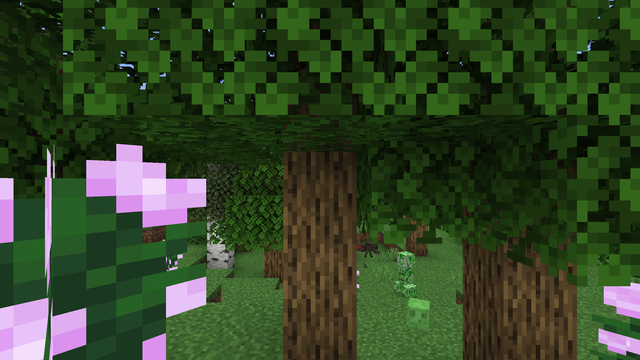araignees: (356, 240, 376, 256)
creepers: (396, 249, 415, 295)
slimes: (405, 297, 433, 328)
